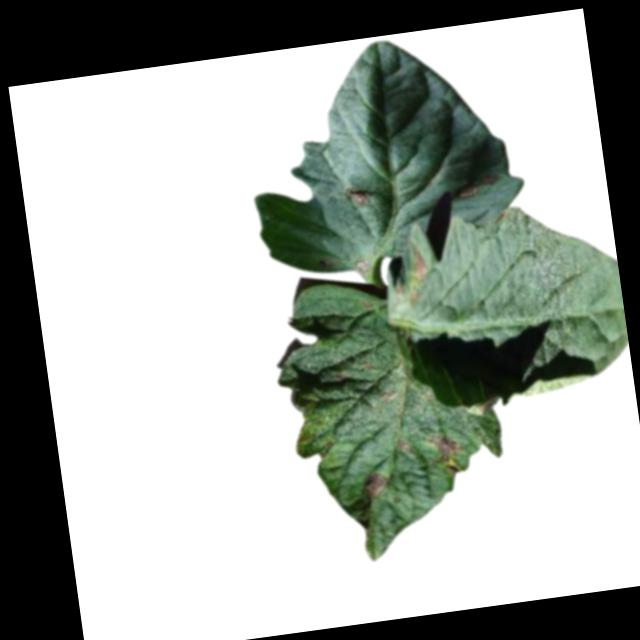Early_blight: (389, 247, 435, 308), (430, 429, 467, 467), (363, 471, 390, 499), (343, 182, 372, 207), (353, 256, 371, 275), (398, 437, 412, 454)
